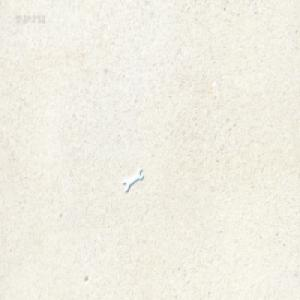Wrench: (122, 167, 144, 193)
